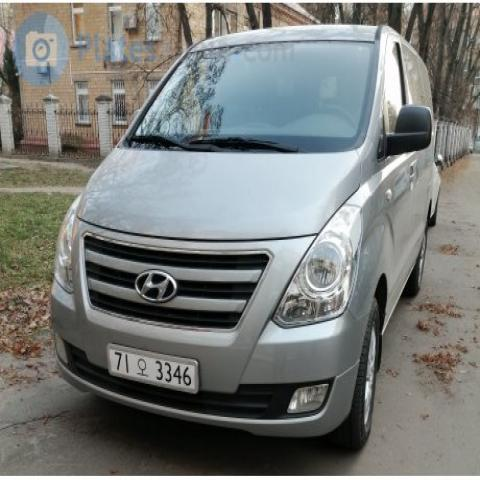LP: (97, 340, 208, 402)
